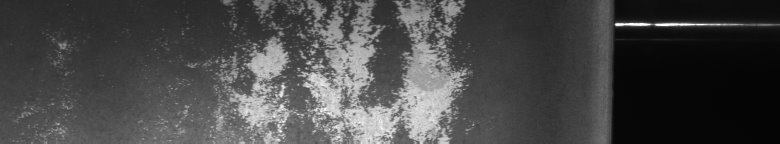kb: (169, 4, 474, 136)
